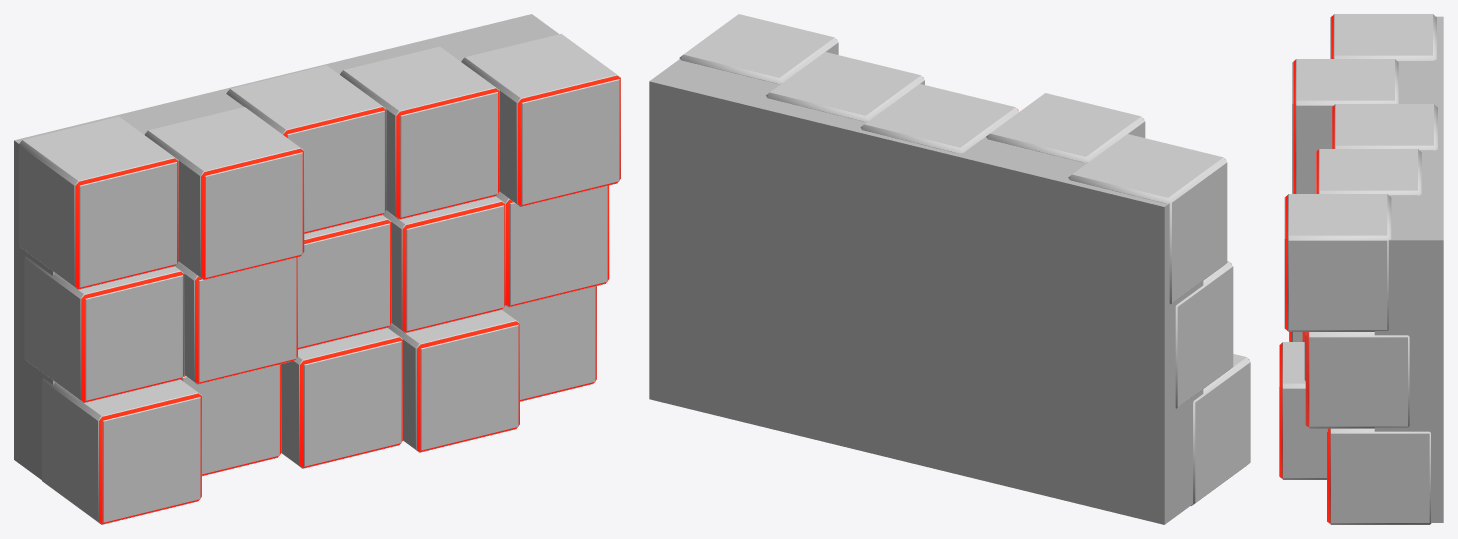
The model's file is Sci_Fi_Arc_Wall_DS.fbx.
3 renders of one model, left to right at view 1: azimuth 30°, elevation 25°; view 2: azimuth 150°, elevation 25°; view 3: azimuth 270°, elevation 25°, orthographic. The views are drawn at different scales.
Visible parts, largest first — view 1: Sci_Fi_Arc_Wall; view 2: Sci_Fi_Arc_Wall; view 3: Sci_Fi_Arc_Wall.
Boxes of the visible parts, x1=… form: Sci_Fi_Arc_Wall: x1=14, y1=14, x2=620, y2=524; Sci_Fi_Arc_Wall: x1=649, y1=14, x2=1250, y2=524; Sci_Fi_Arc_Wall: x1=1279, y1=14, x2=1443, y2=524.
Bounding box in the file's own units: 400 × 240 × 124.
